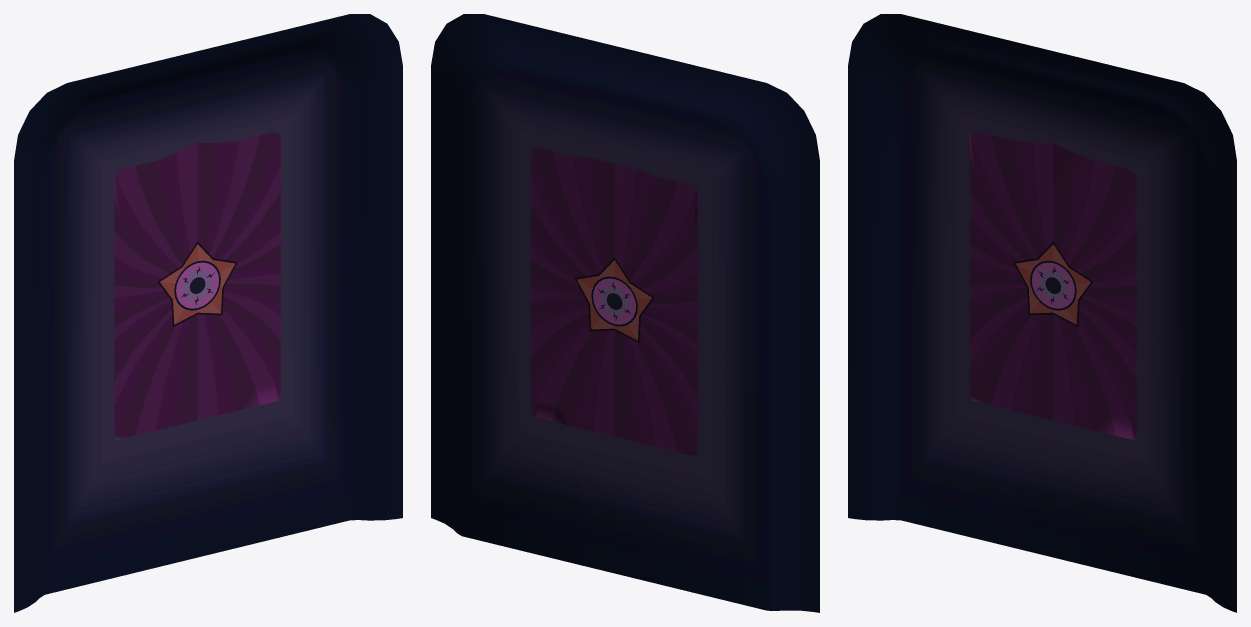
File: bgr_bizzare_circus_ground.fbx
3 renders of one model, left to right at view 1: azimuth 30°, elevation 25°; view 2: azimuth 150°, elevation 25°; view 3: azimuth 330°, elevation 25°, orthographic.
Parts seen in each view (by area): view 1: ground.001; view 2: ground.001; view 3: ground.001.
Part boxes in pixels (<box>): ground.001: <box>14,14,402,612</box>; ground.001: <box>431,14,819,612</box>; ground.001: <box>848,14,1236,612</box>.
Size of the model in its own units: 5218 by 6627 by 253.
